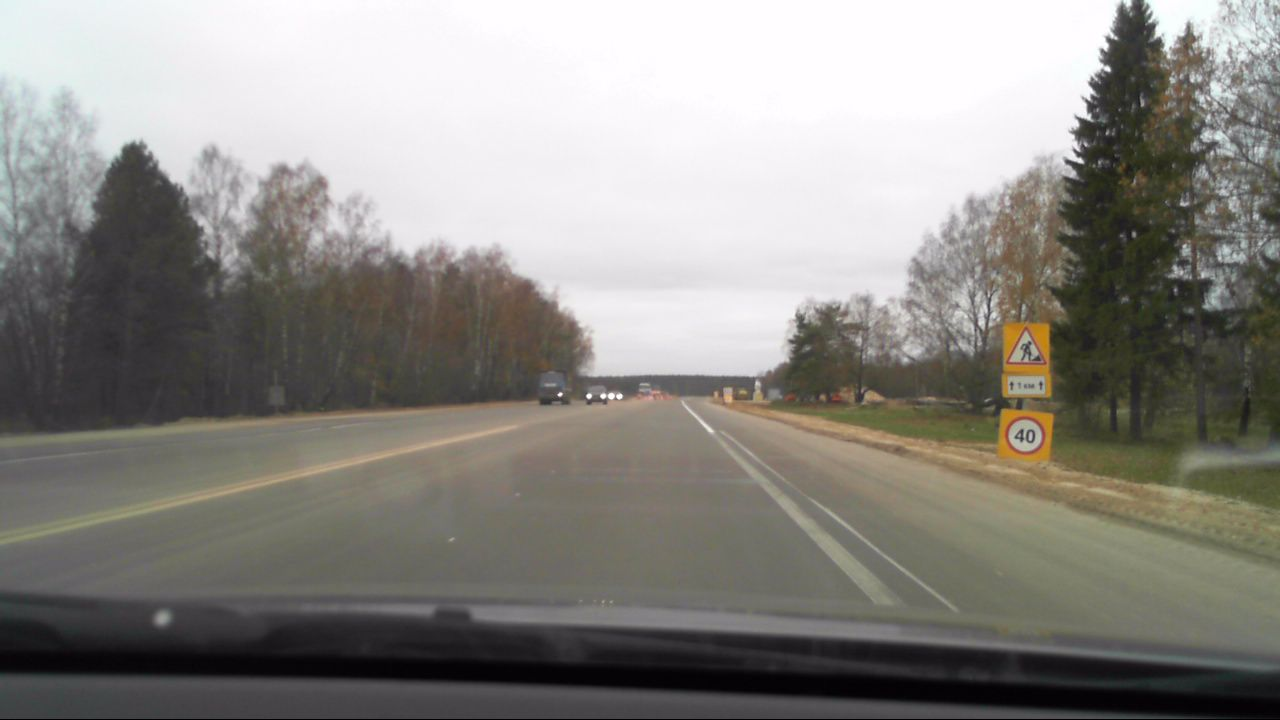speed_warning_40: (1003, 410, 1051, 461)
